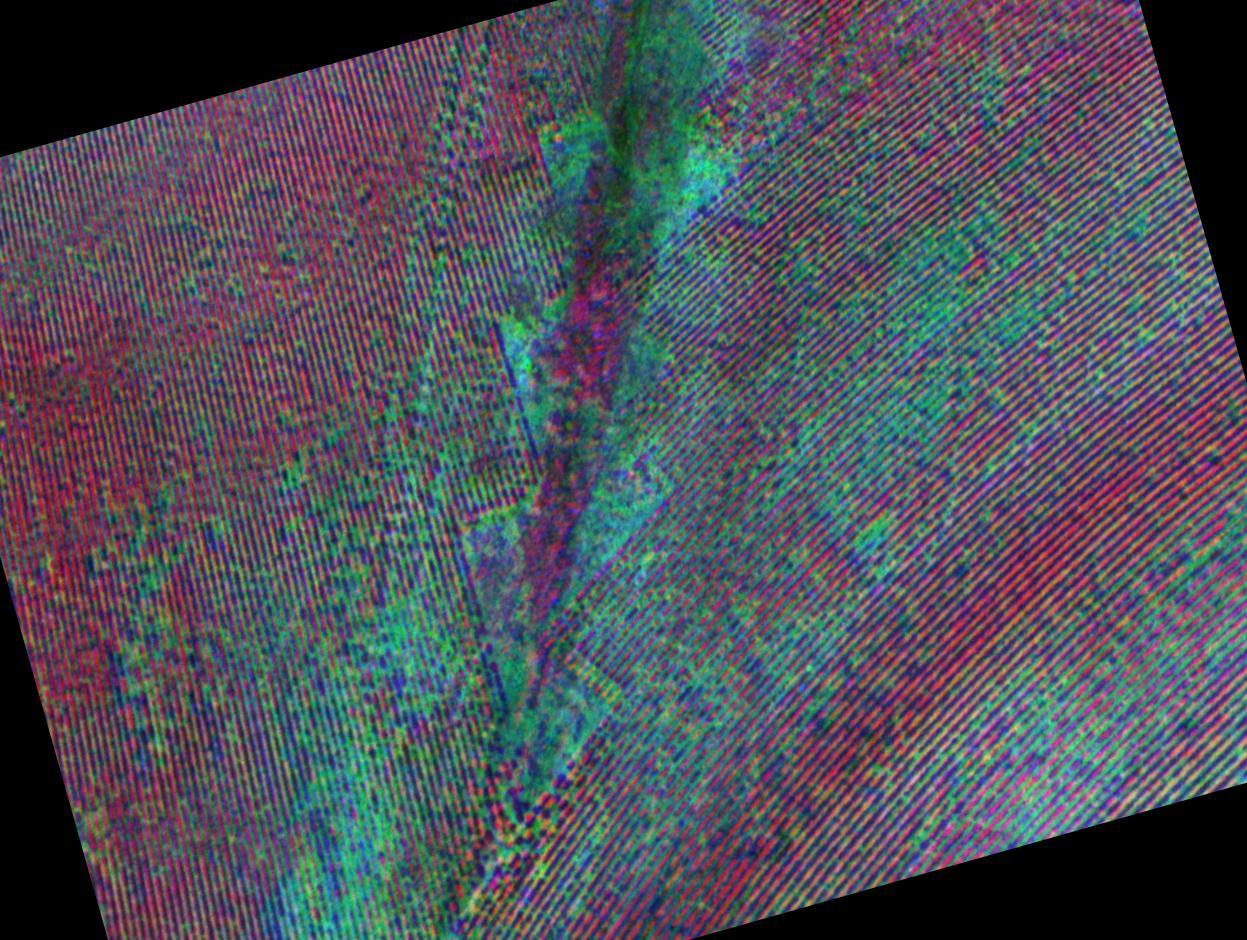dc: (313, 615, 402, 741), (306, 833, 392, 940), (876, 275, 968, 363), (656, 130, 727, 201), (651, 20, 723, 86), (536, 128, 587, 180)
